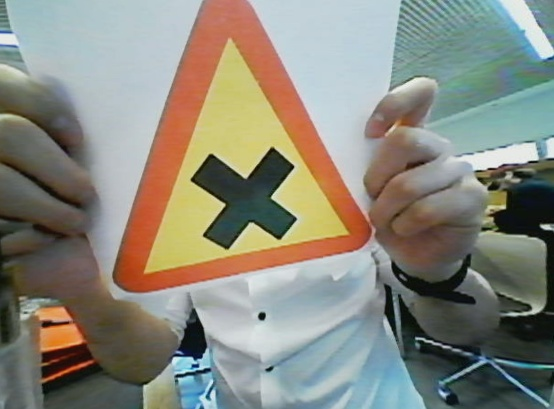junction: (112, 3, 369, 300)
